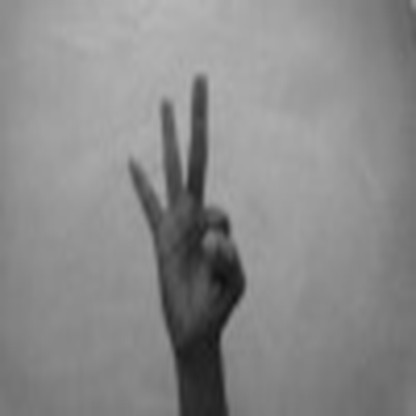f: (125, 66, 250, 348)
